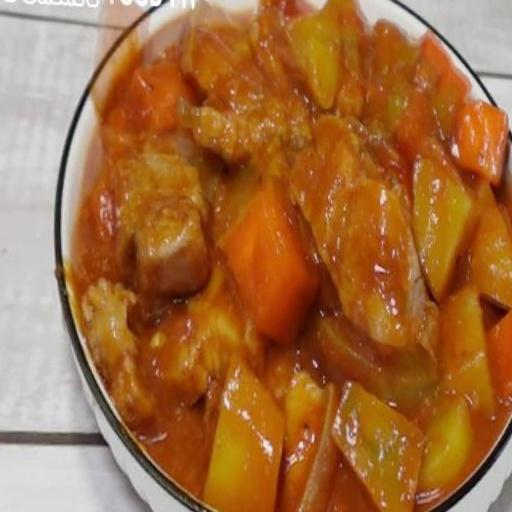pork caldereta: (79, 0, 511, 511)
